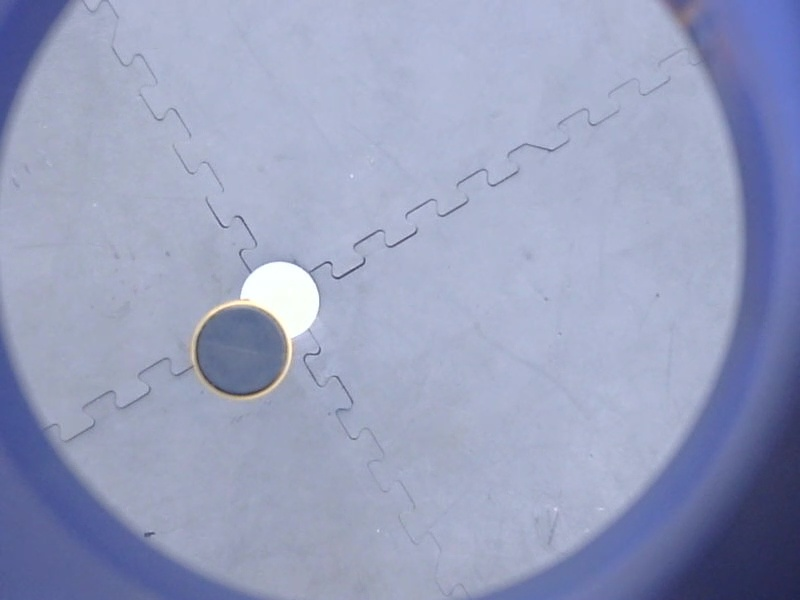tip: (184, 296, 296, 406)
